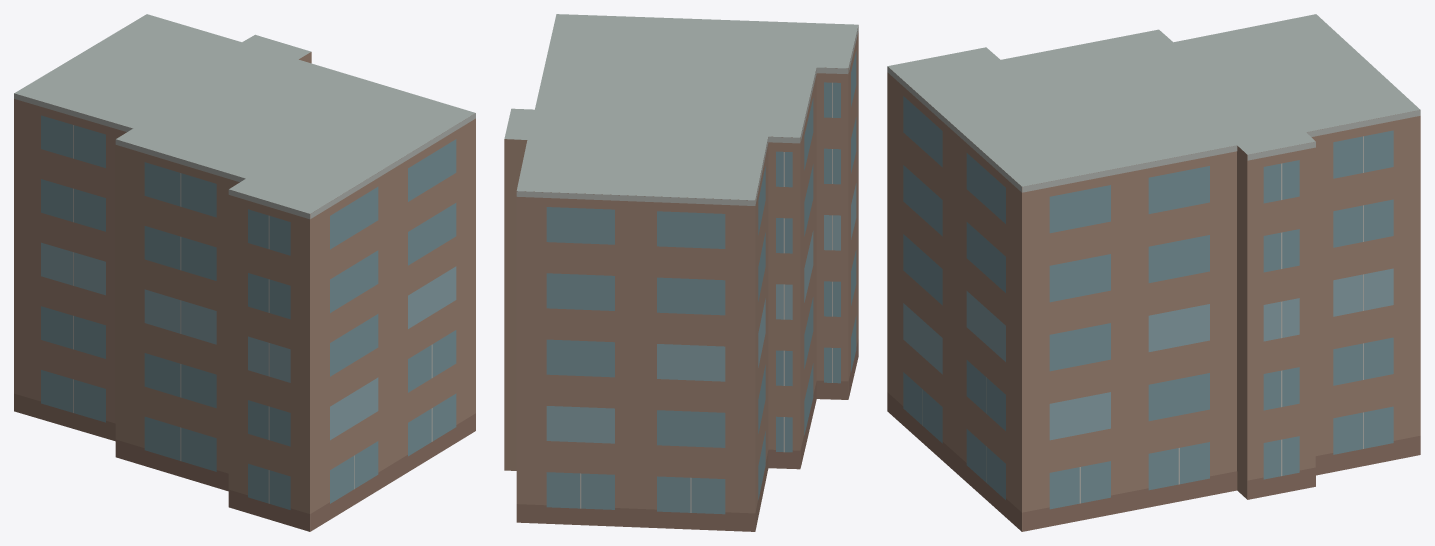
File: survey-upis-32701586.glb
3 views of the same model, side by side, from view 1: azimuth 30°, elevation 25°; view 2: azimuth 150°, elevation 25°; view 3: azimuth 270°, elevation 25° (orthographic). The views are drawn at different scales.
Visible parts, largest first — view 1: survey-upis-32701586.tmp; view 2: survey-upis-32701586.tmp; view 3: survey-upis-32701586.tmp.
Part boxes in pixels (bbox=[...]): survey-upis-32701586.tmp: bbox=[14, 14, 475, 531]; survey-upis-32701586.tmp: bbox=[504, 14, 858, 531]; survey-upis-32701586.tmp: bbox=[887, 14, 1420, 531].
Bounding box in the file's own units: 15.2 × 14.15 × 19.82.
